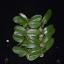leaf: (41, 38, 54, 52), (40, 24, 54, 34), (42, 10, 52, 24), (12, 35, 28, 43), (12, 17, 28, 25), (26, 52, 42, 60), (41, 33, 52, 43), (12, 47, 27, 54), (28, 21, 42, 28), (41, 28, 55, 35), (14, 26, 26, 34), (18, 13, 28, 22), (26, 30, 41, 36), (25, 41, 39, 47), (28, 37, 40, 44), (28, 15, 42, 21), (28, 47, 40, 52), (18, 52, 27, 57), (41, 48, 47, 54)
